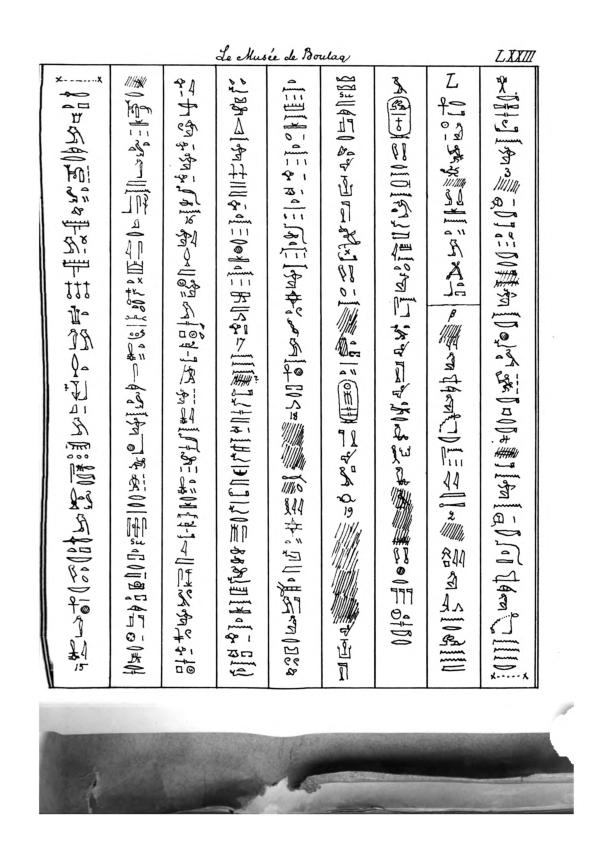circle: (386, 96, 414, 141), (336, 378, 362, 425)
